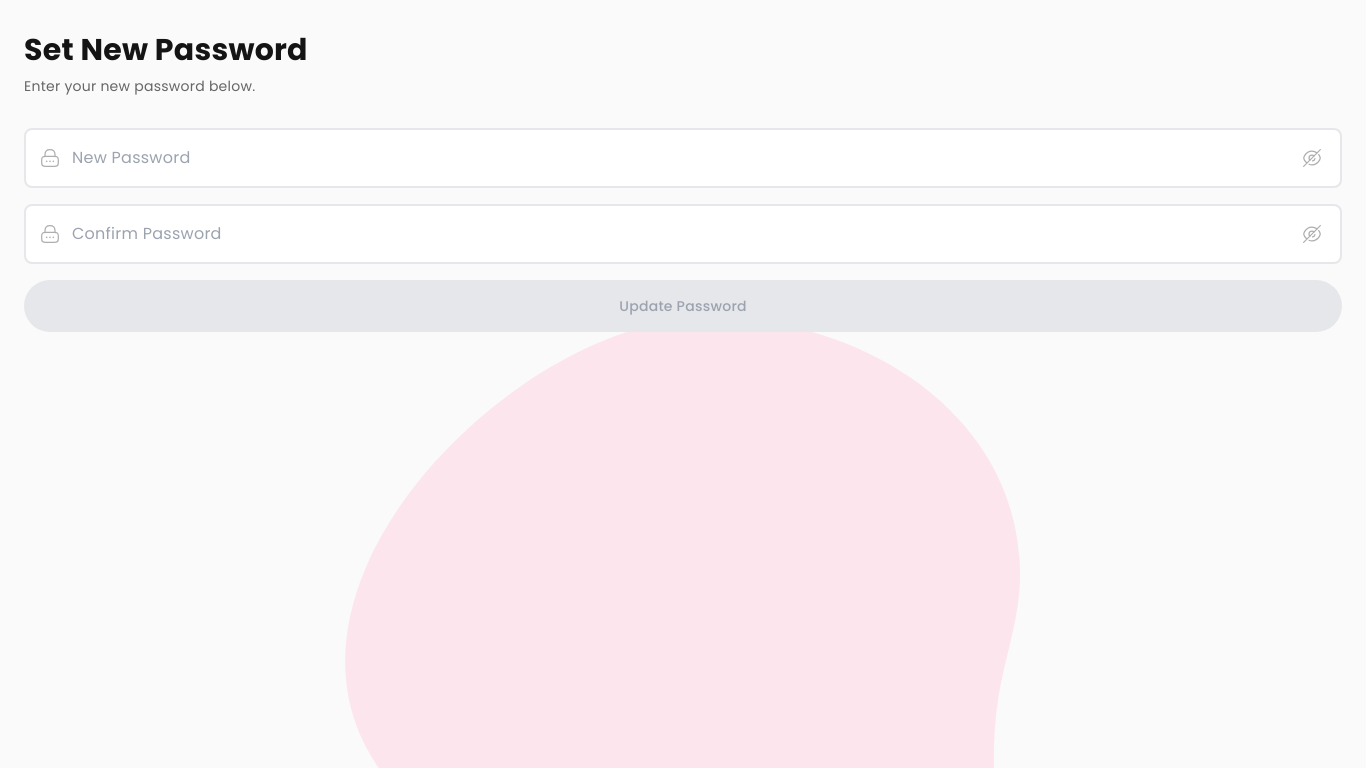
Test: ResetPasswordPage › shows validation errors when passwords do not match
This screenshot has width=1366, height=768.
Type "secret1" into the password field with placeholder "New Password".
click(683, 158); type("secret1")  # box [24, 128, 1342, 188]
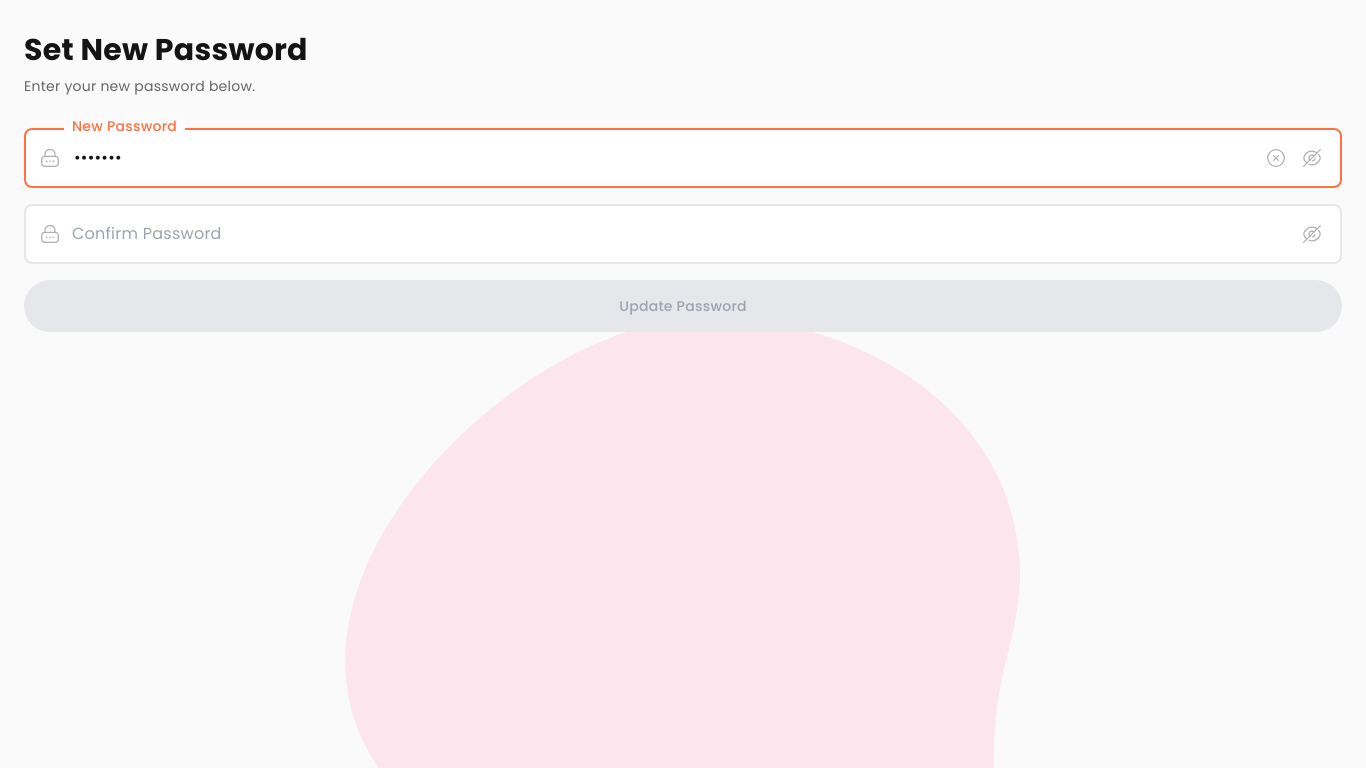
Type "secret2" into the password field with placeholder "Confirm Password".
click(683, 234); type("secret2")  # box [24, 204, 1342, 264]
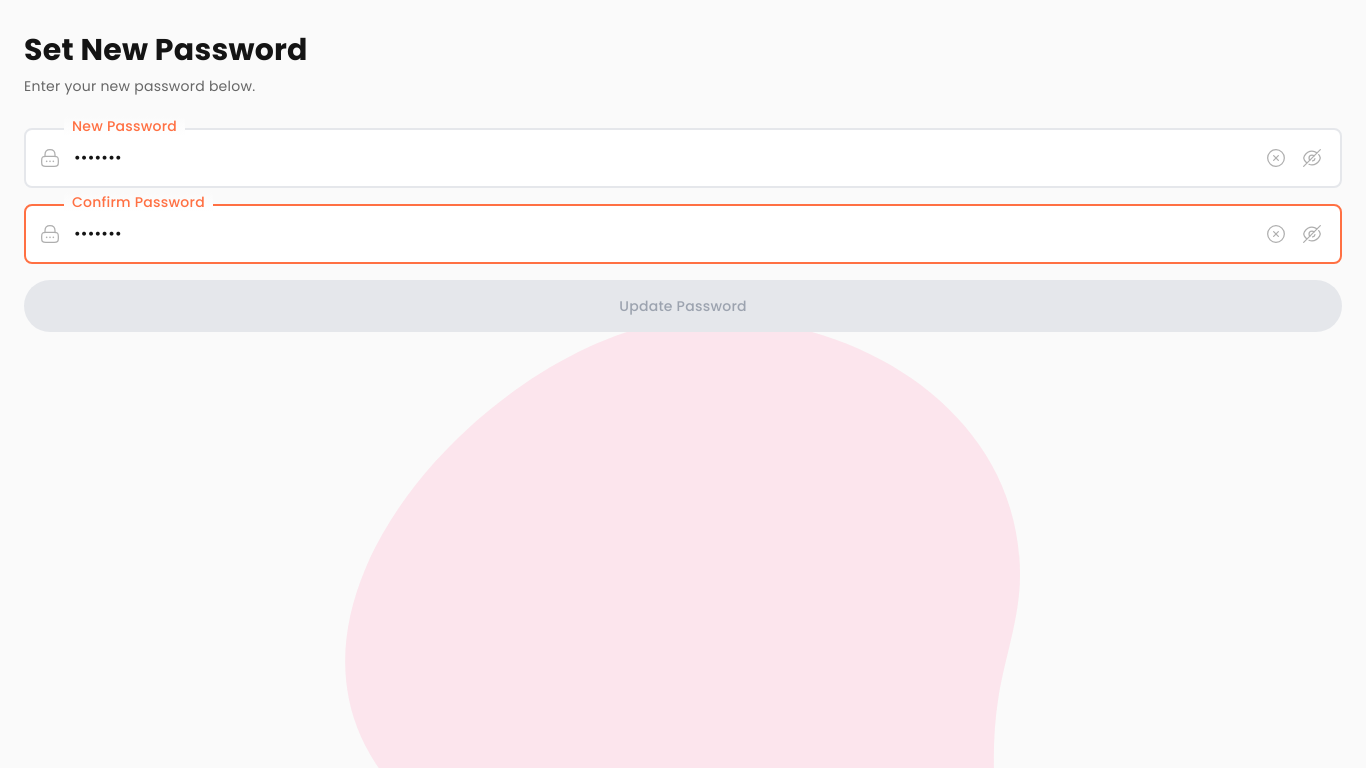
Press Tab
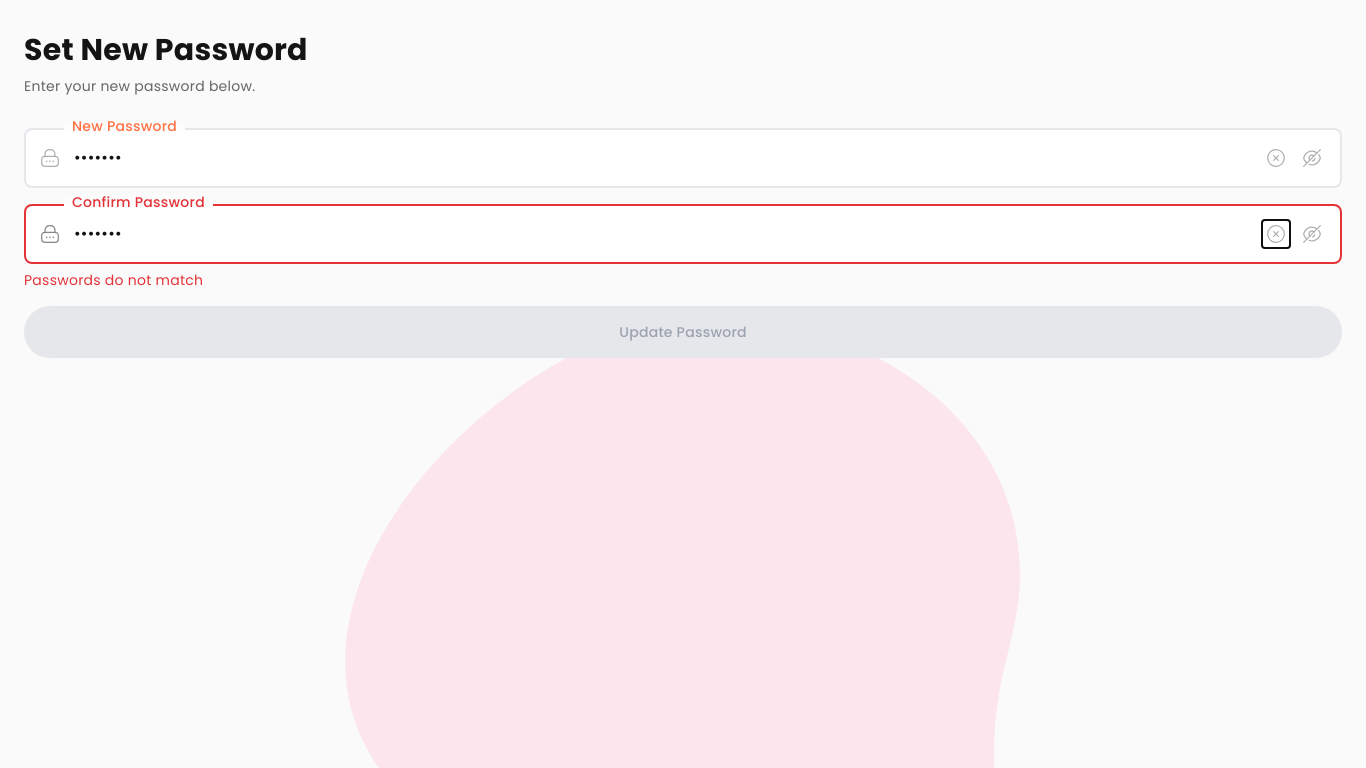
expect the text "Passwords do not match" is shown: met, box [24, 270, 203, 290]
